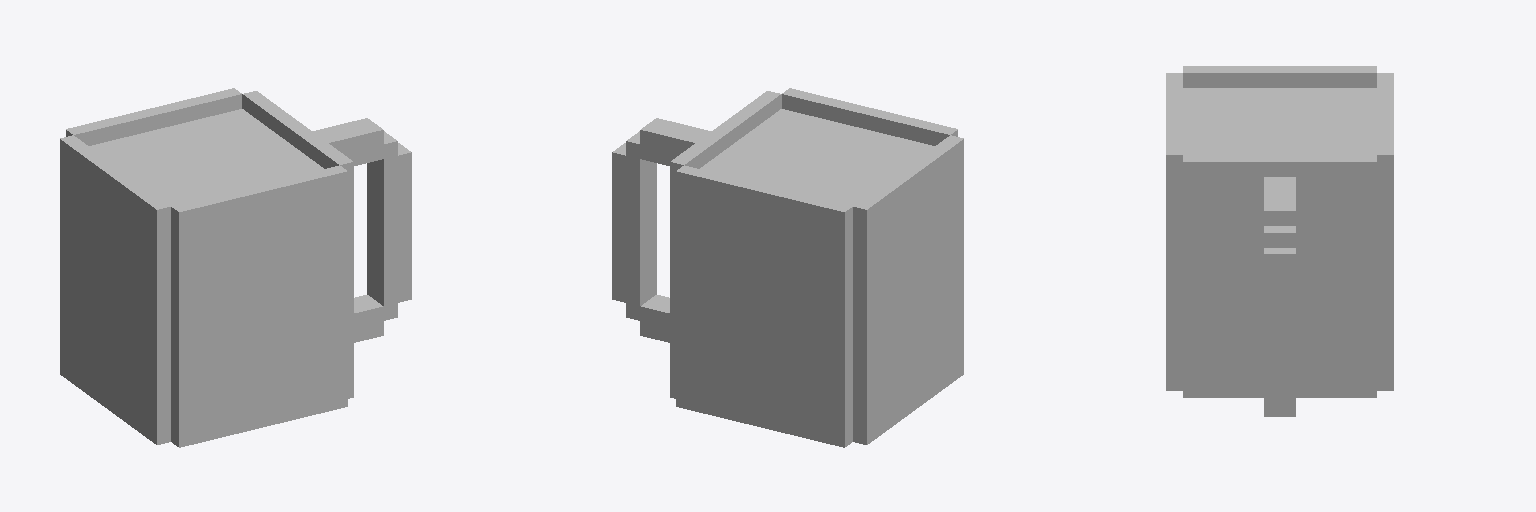
File: GoldenCupOfParsleyTea.obj
3 renders of one model, left to right at view 1: azimuth 30°, elevation 25°; view 2: azimuth 150°, elevation 25°; view 3: azimuth 270°, elevation 25°, orthographic.
Parts seen in each view (by area): view 1: object 1; view 2: object 1; view 3: object 1.
Boxes of the visible parts, x1=… form: object 1: x1=60, y1=88, x2=411, y2=447; object 1: x1=612, y1=88, x2=963, y2=447; object 1: x1=1166, y1=66, x2=1393, y2=416.
Bounding box in the file's own units: 2.1 × 1.6 × 1.4.